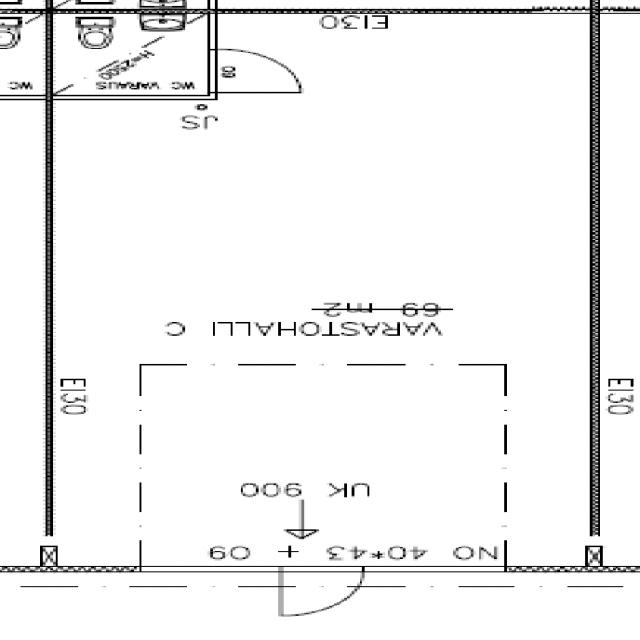door: (281, 565, 363, 615), (208, 49, 297, 92)
